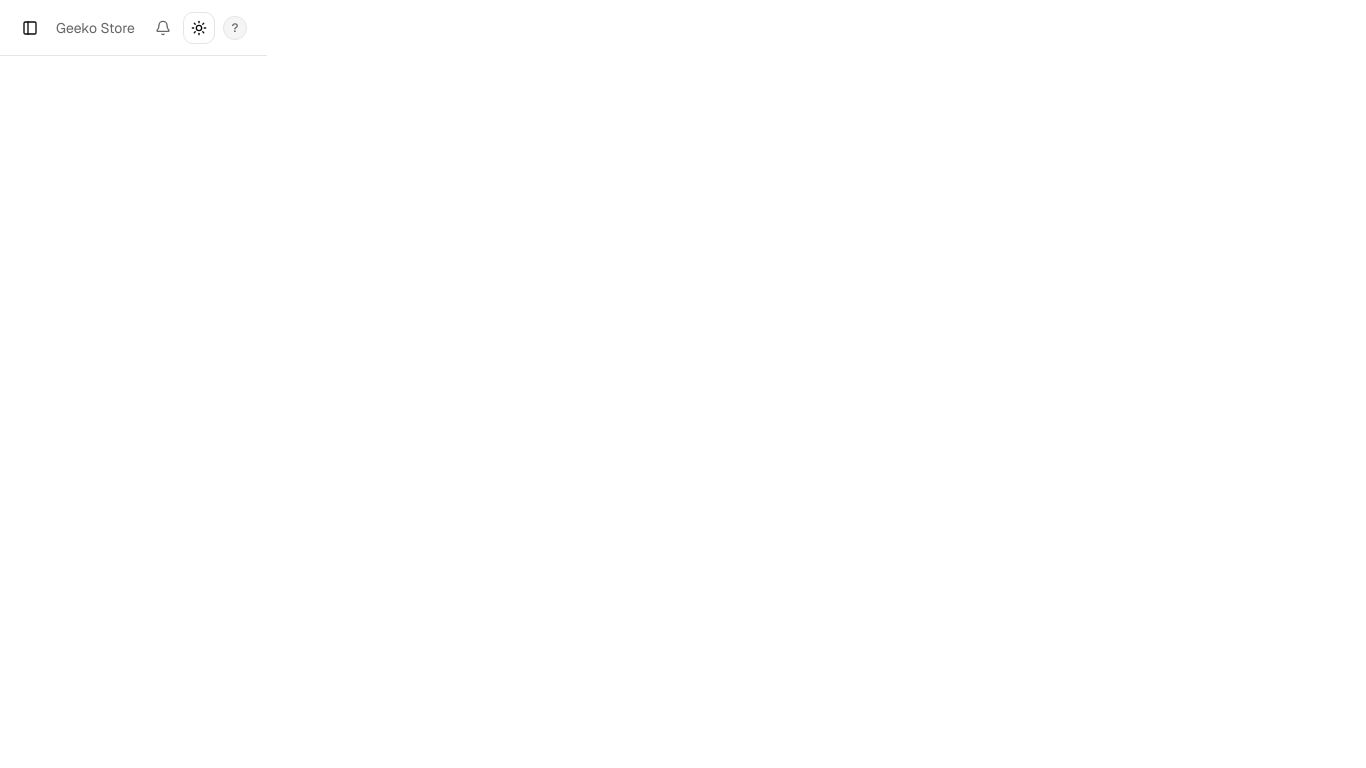
Test case: Header › al abrirla sin avisos muestra su mensaje de lista sin contenido
This screenshot has width=1366, height=768.
Click the button with test id "notification-bell": click(163, 28) [147, 12, 179, 44]
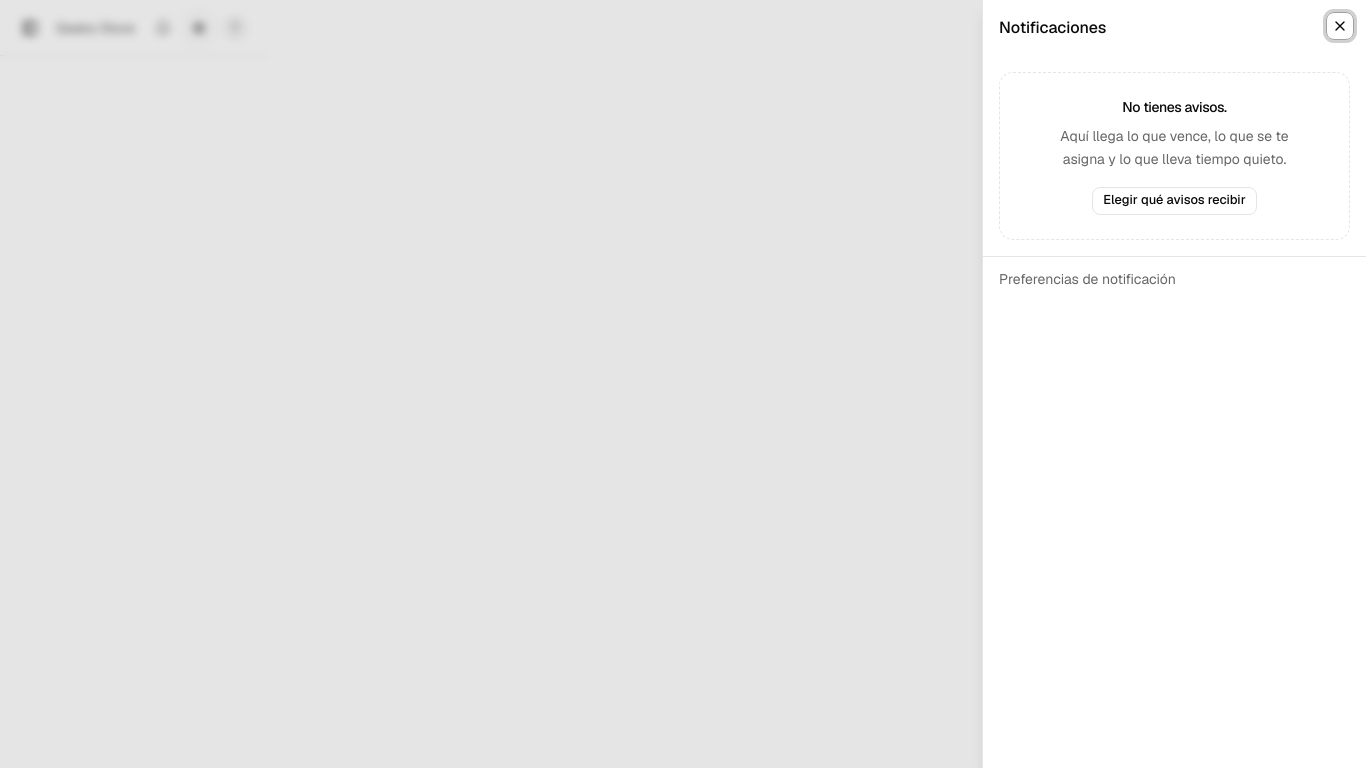
Now the element with test id "notifications-empty" shows "No tienes avisos.", box [1122, 98, 1227, 116]
